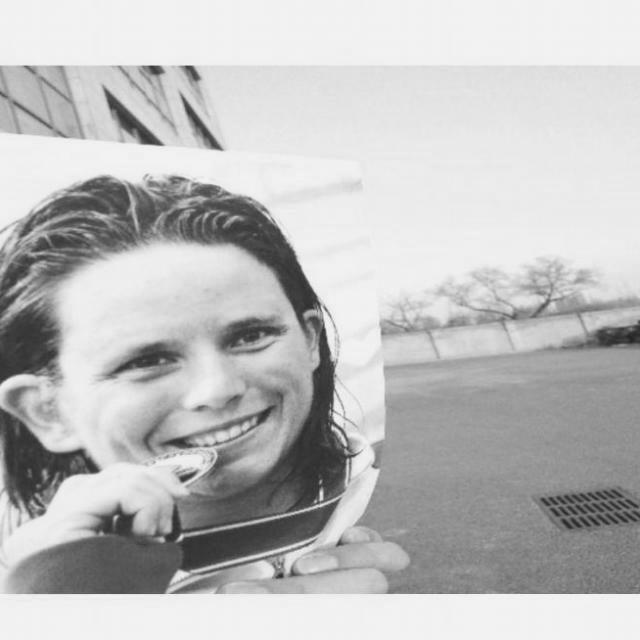fake: (0, 113, 391, 593)
